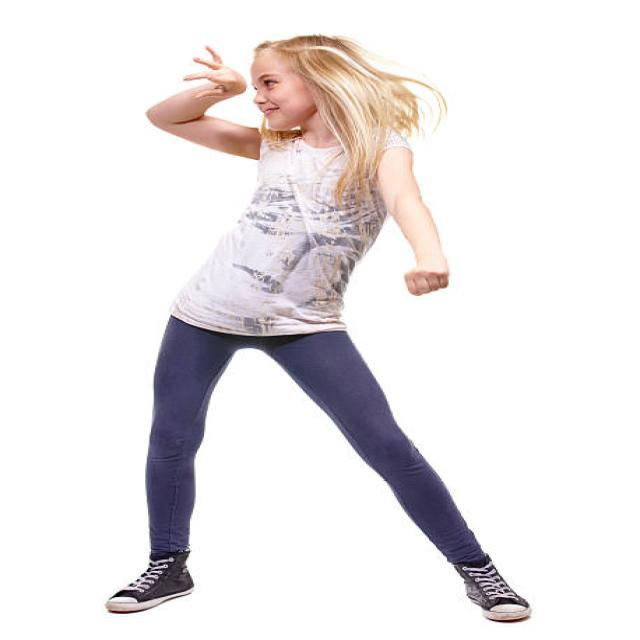Edited images: (108, 23, 543, 626)
